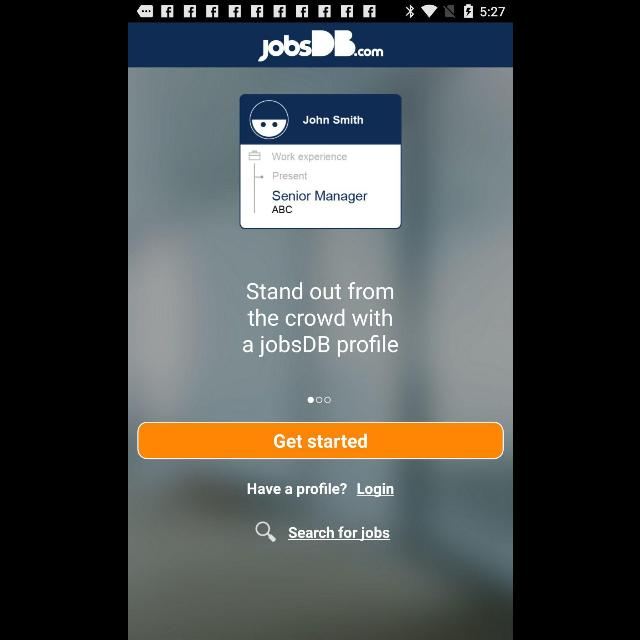icon: (254, 522, 276, 542)
image: (238, 94, 402, 230), (258, 30, 382, 61)
pageindicator: (306, 396, 330, 404)
text: (242, 282, 398, 358), (286, 526, 389, 542), (246, 482, 346, 498), (356, 482, 394, 498)
textbutton: (136, 422, 504, 460)
uppertaskbar: (128, 1, 512, 23)
